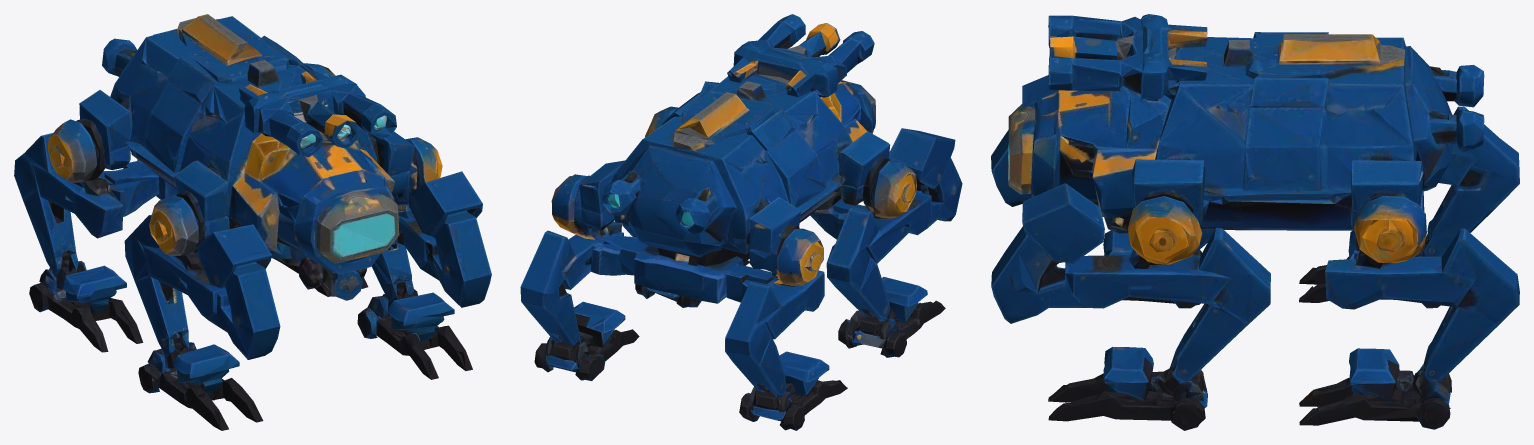
File: atlas_walker.glb
3 views of the same model, side by side, from view 1: azimuth 30°, elevation 25°; view 2: azimuth 150°, elevation 25°; view 3: azimuth 270°, elevation 25° (orthographic). The views are drawn at different scales.
Visible parts, largest first — view 1: model; view 2: model; view 3: model.
Part boxes in pixels (x1,y1,x2,y2): model: [14, 14, 491, 430]; model: [520, 14, 962, 430]; model: [991, 14, 1519, 430].
Bounding box in the file's own units: 1.05 × 1 × 1.5.
2 materials, 1 textured.
